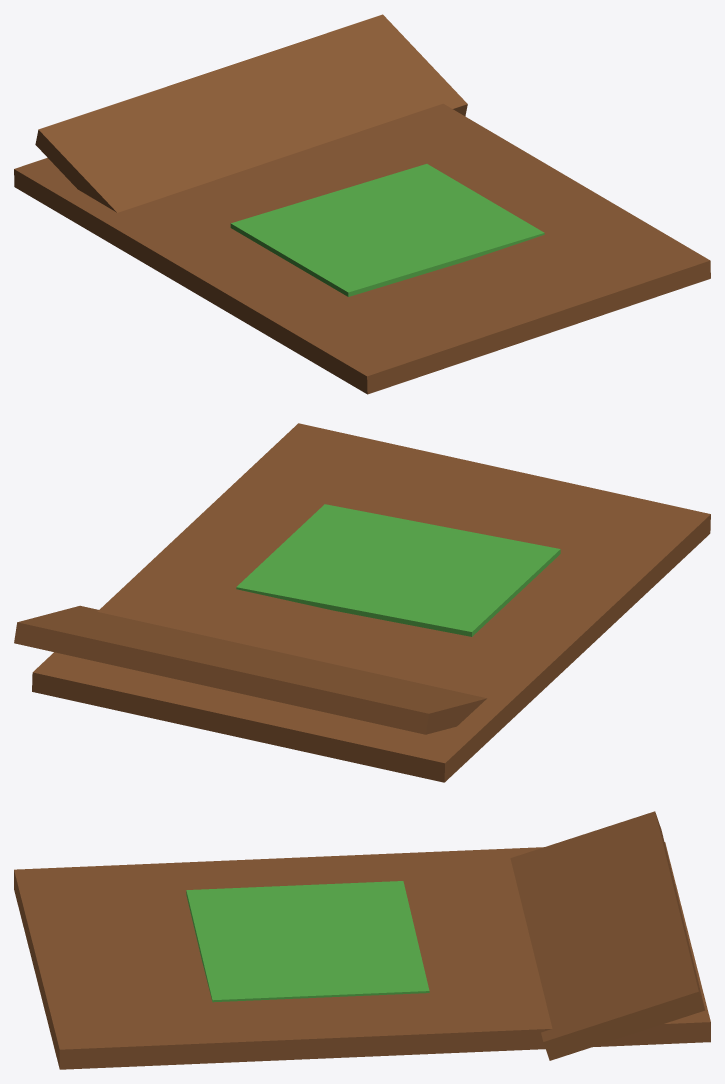
Rendered from empty_soil_bag.glb.
The picture shows the model from 3 angles, top to bottom: view 1: azimuth 30°, elevation 25°; view 2: azimuth 150°, elevation 25°; view 3: azimuth 270°, elevation 25°; orthographic projection. The views are drawn at different scales.
Visible parts, largest first — view 1: sack_soil_sack, fold_soil_sack, label_soil_label; view 2: sack_soil_sack, label_soil_label, fold_soil_sack; view 3: sack_soil_sack, fold_soil_sack, label_soil_label.
Boxes of the visible parts, bbox=[...] form: sack_soil_sack: bbox=[14, 103, 710, 394]; fold_soil_sack: bbox=[35, 14, 467, 212]; label_soil_label: bbox=[230, 164, 544, 296]; sack_soil_sack: bbox=[32, 423, 710, 782]; label_soil_label: bbox=[236, 504, 560, 636]; fold_soil_sack: bbox=[14, 605, 486, 734]; sack_soil_sack: bbox=[14, 842, 710, 1069]; fold_soil_sack: bbox=[510, 811, 705, 1060]; label_soil_label: bbox=[186, 881, 429, 1002].
Bounding box in the file's own units: 0.4782 × 0.0756 × 0.639.
